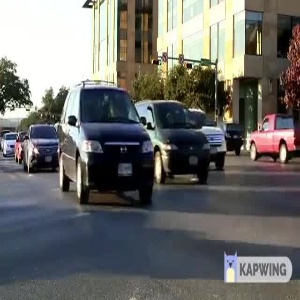truck: (244, 112, 300, 164)
van: (52, 75, 151, 199)
